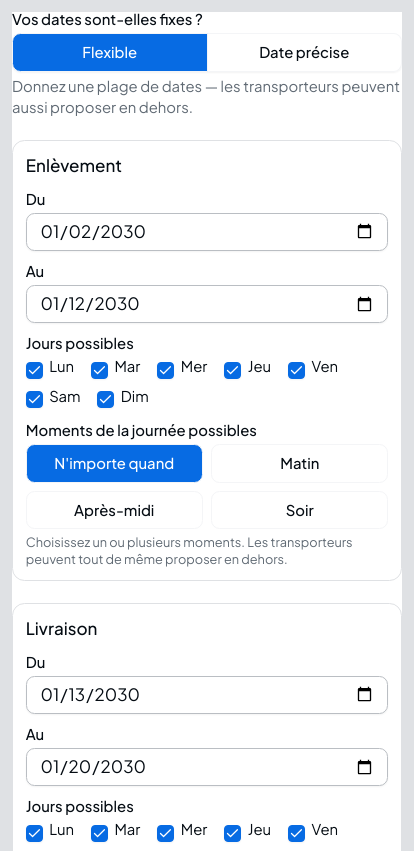
TimingField — weekdays › unticks a day
Click the 5th checkbox named "Ven".
click(297, 370)  # box [288,362,305,378]
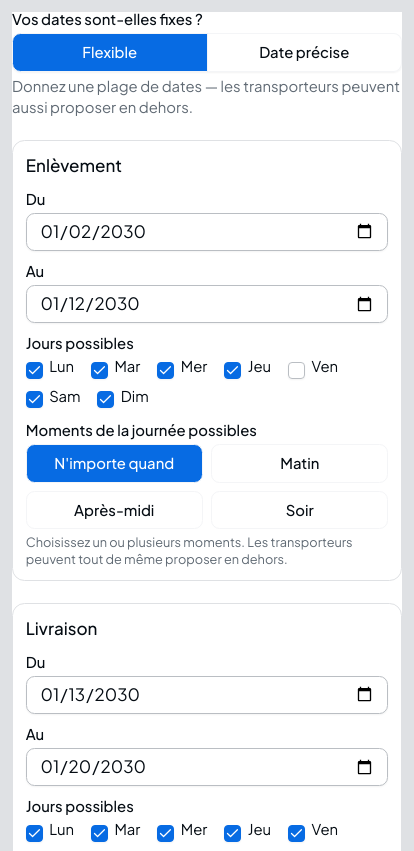
Expected: the 5th checkbox named "Ven" is not checked, [288,362,305,378]
